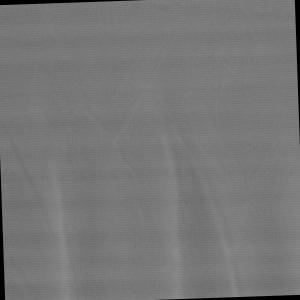Wrinkle: (1, 82, 92, 300), (155, 93, 249, 300)
